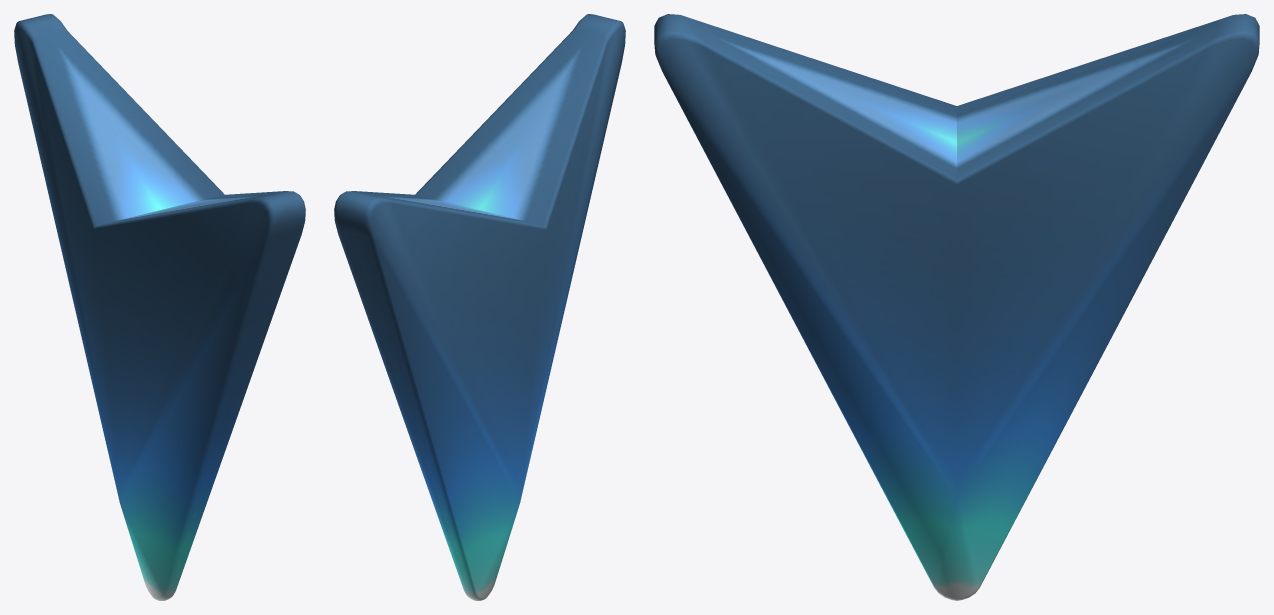
File: arrow.glb
3 renders of one model, left to right at view 1: azimuth 30°, elevation 25°; view 2: azimuth 150°, elevation 25°; view 3: azimuth 270°, elevation 25°, orthographic. The views are drawn at different scales.
Visible parts, largest first — view 1: arrow; view 2: arrow; view 3: arrow.
Boxes of the visible parts, <box> form: arrow: <box>14,14,305,600</box>; arrow: <box>334,14,625,600</box>; arrow: <box>654,14,1259,600</box>.
Bounding box in the file's own units: 0.715 × 2.53 × 2.4.
Materials: 1 (1 with a texture image).
